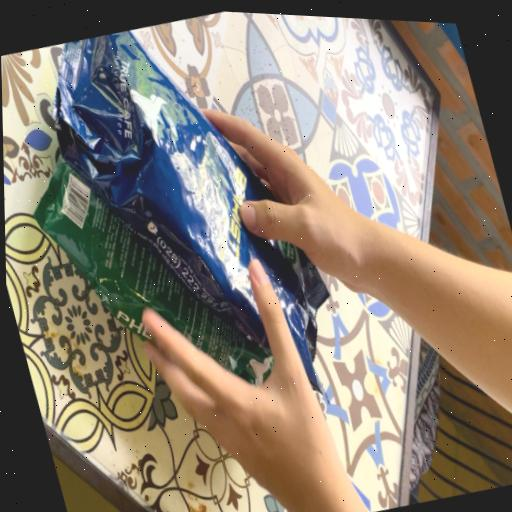cafe_hat: (52, 31, 327, 390)
cafe_xay: (34, 159, 272, 385)
